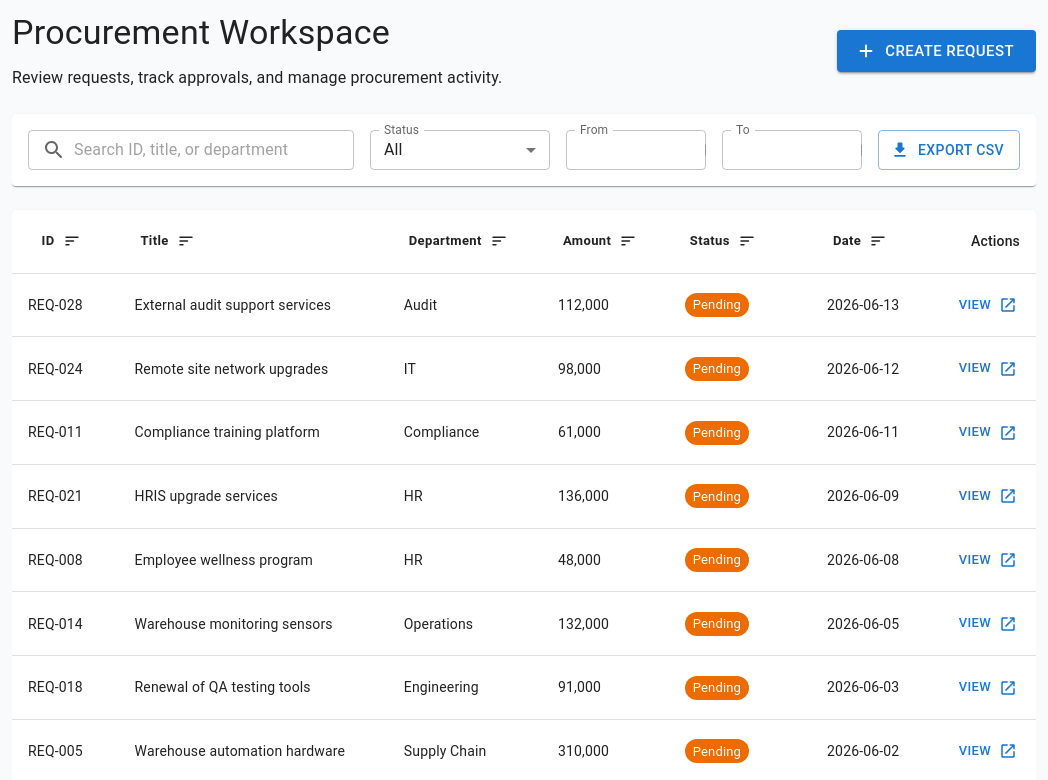
it: ProcurementPage › filters requests by search and status
Type "Cloud" into the field with placeholder "Search ID, title, or department" at (214, 150), box [74, 130, 354, 170]
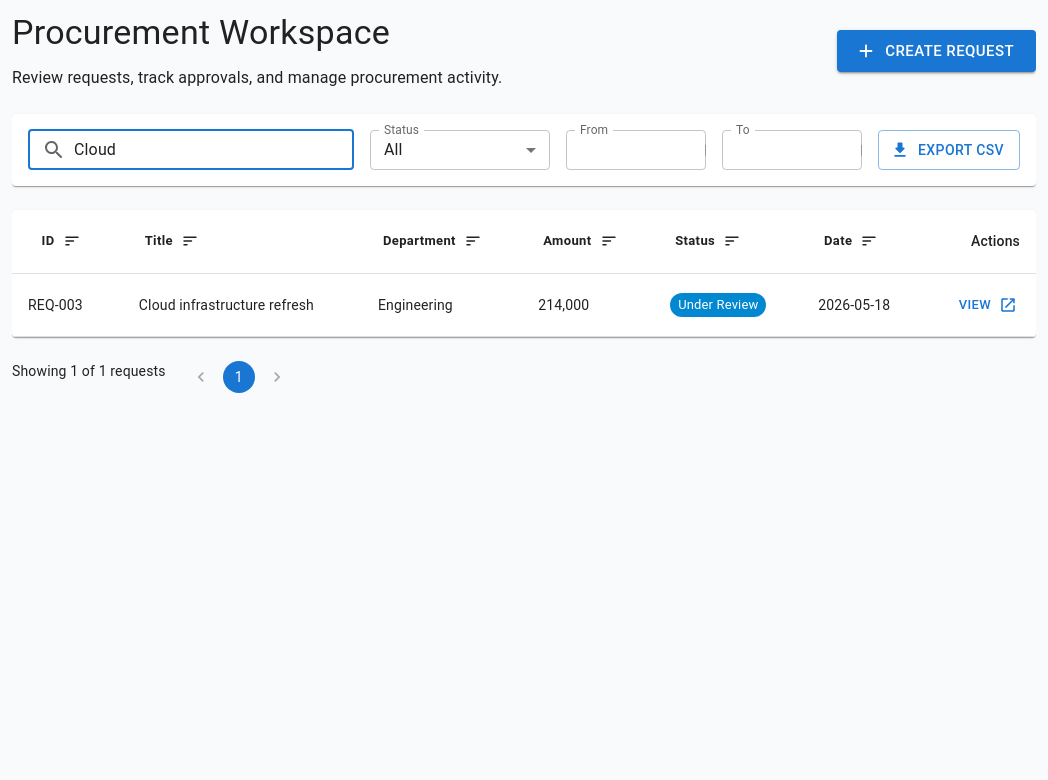
Now the text "Cloud infrastructure refresh" is shown, box [123, 273, 362, 337]
